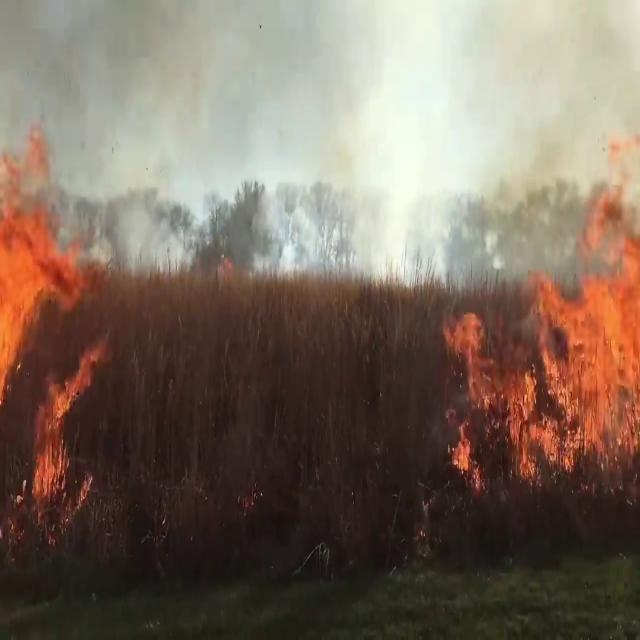Fire: (437, 220, 640, 494), (0, 130, 88, 433), (28, 340, 102, 513)
Smoke: (436, 0, 640, 268), (249, 2, 405, 288)
